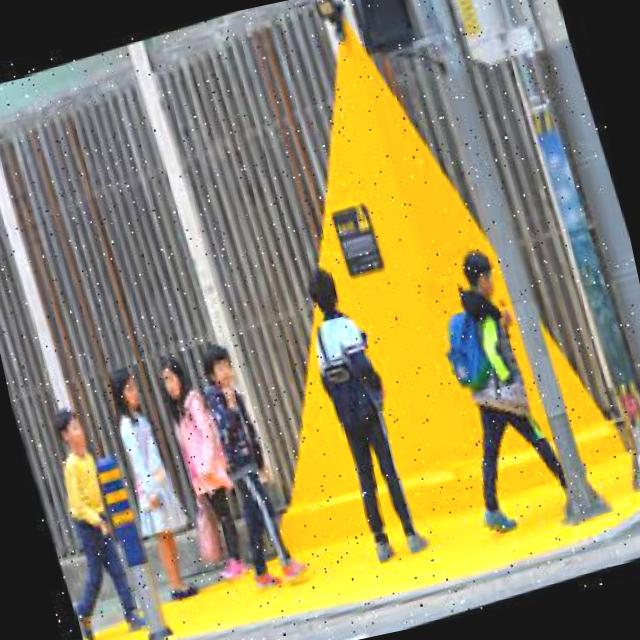Person: (409, 240, 578, 539), (288, 256, 432, 568), (184, 327, 304, 595), (17, 403, 150, 640), (153, 344, 262, 594), (98, 355, 203, 604)
